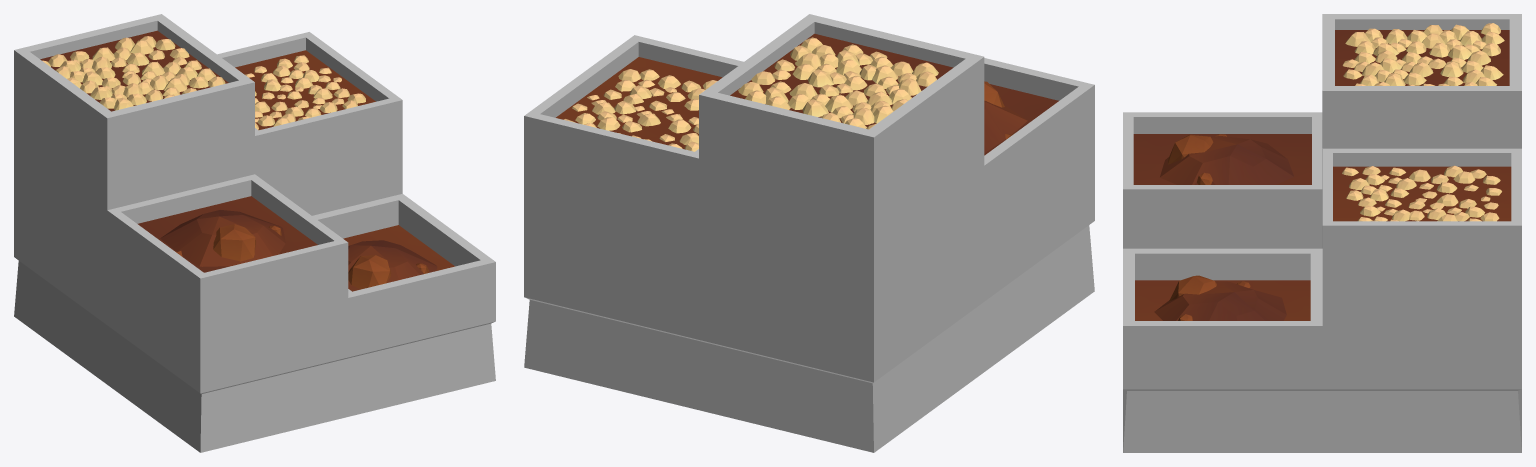
The model's file is Garden_SquarePlanter03.fbx.
The picture shows the model from 3 angles, left to right: view 1: azimuth 30°, elevation 25°; view 2: azimuth 150°, elevation 25°; view 3: azimuth 270°, elevation 25°; orthographic projection. The views are drawn at different scales.
Visible parts, largest first — view 1: Box Planter03; view 2: Box Planter03; view 3: Box Planter03.
Part boxes in pixels (<box>): Box Planter03: <box>14,14,495,452</box>; Box Planter03: <box>524,14,1094,452</box>; Box Planter03: <box>1123,14,1521,452</box>.
Bounding box in the file's own units: 77.81 × 67.04 × 85.05.
